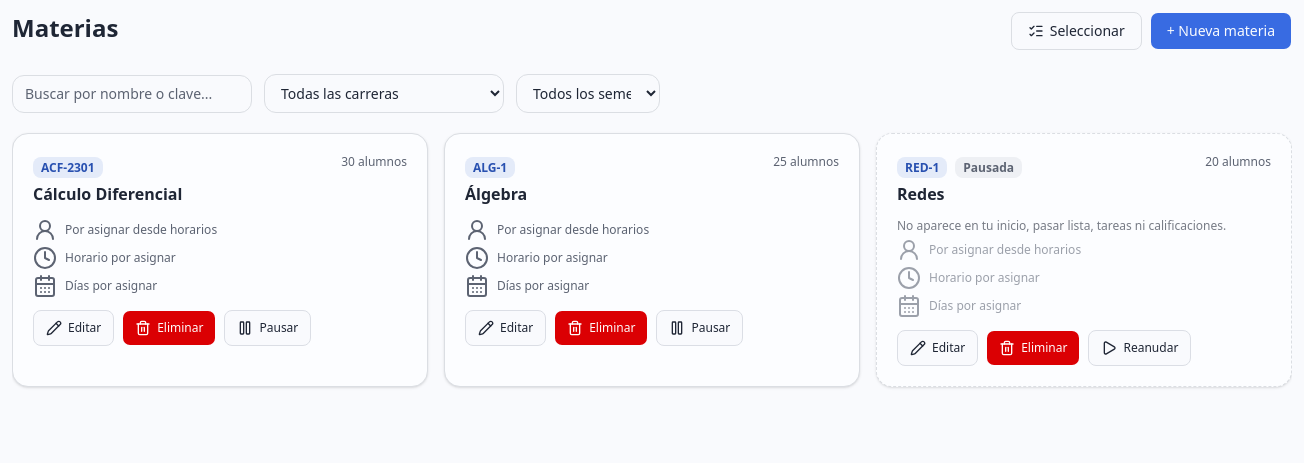
Scenario: reanudar no pide confirmación
Click the button with aria-label "Reanudar Redes": (1140, 348) top-left (1088, 330), bottom-right (1191, 366)
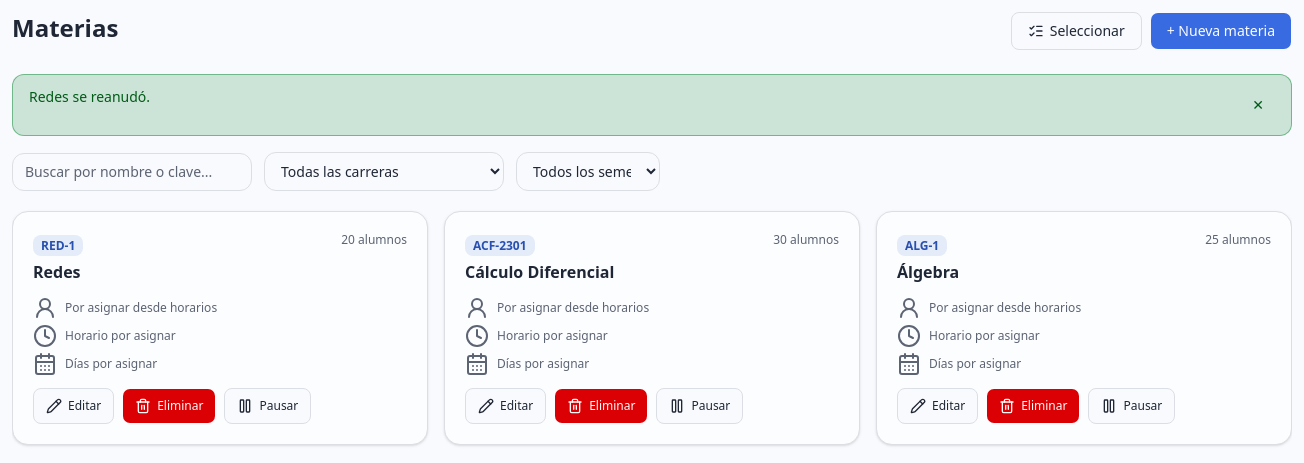
Now the text "Redes se reanudó." is shown, box top-left (29, 87), bottom-right (150, 107)
Now the button with aria-label "Pausar Redes" is shown, box top-left (224, 388), bottom-right (311, 424)
